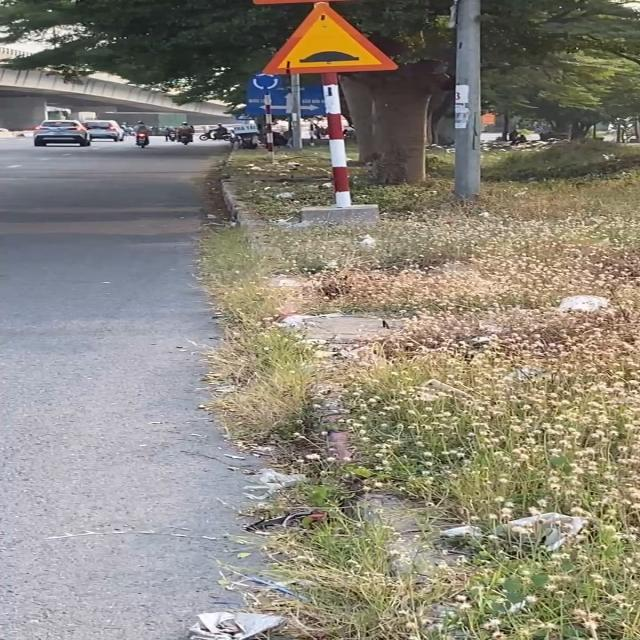221-duong-go-ghe: (262, 0, 396, 76)
303-noi-giao-nhau-chay-theo-vong-xuyen: (250, 72, 282, 91)
